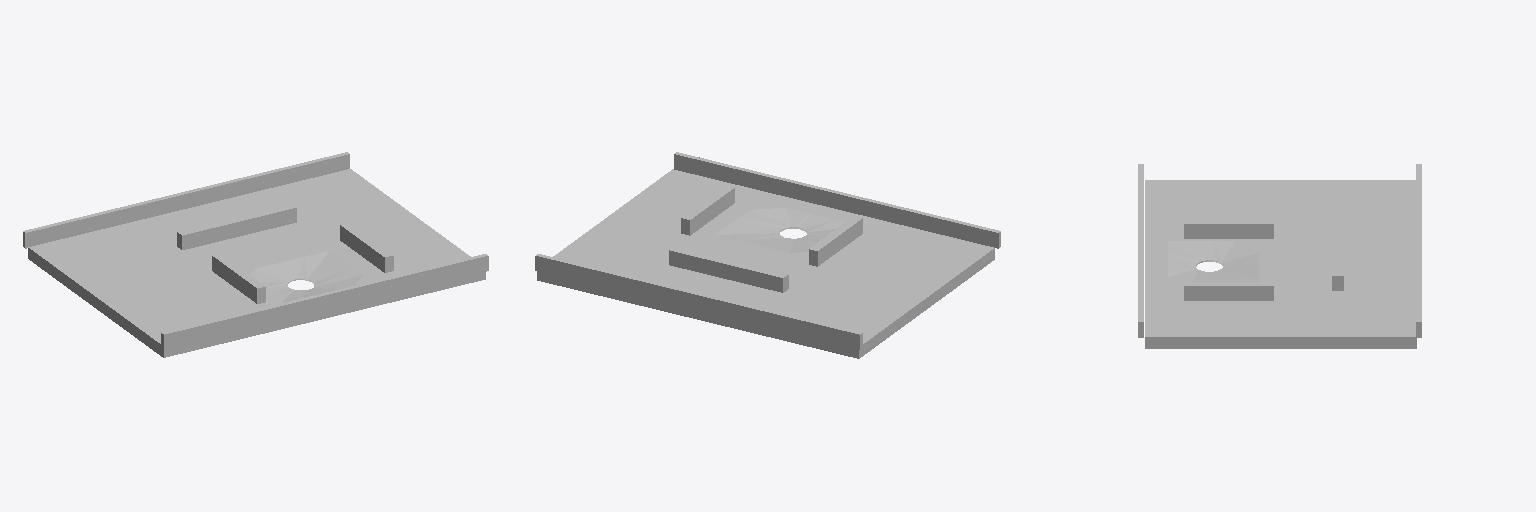
The model's file is 003_Mesa_lava.obj.
3 views of the same model, side by side, from view 1: azimuth 30°, elevation 25°; view 2: azimuth 150°, elevation 25°; view 3: azimuth 270°, elevation 25° (orthographic).
Visible parts, largest first — view 1: Mesa_lava; view 2: Mesa_lava; view 3: Mesa_lava.
Boxes of the visible parts, <box> form: Mesa_lava: <box>23,152,488,357</box>; Mesa_lava: <box>535,152,1000,358</box>; Mesa_lava: <box>1138,164,1421,348</box>.
Bounding box in the file's own units: 19.94 × 1.63 × 15.03.